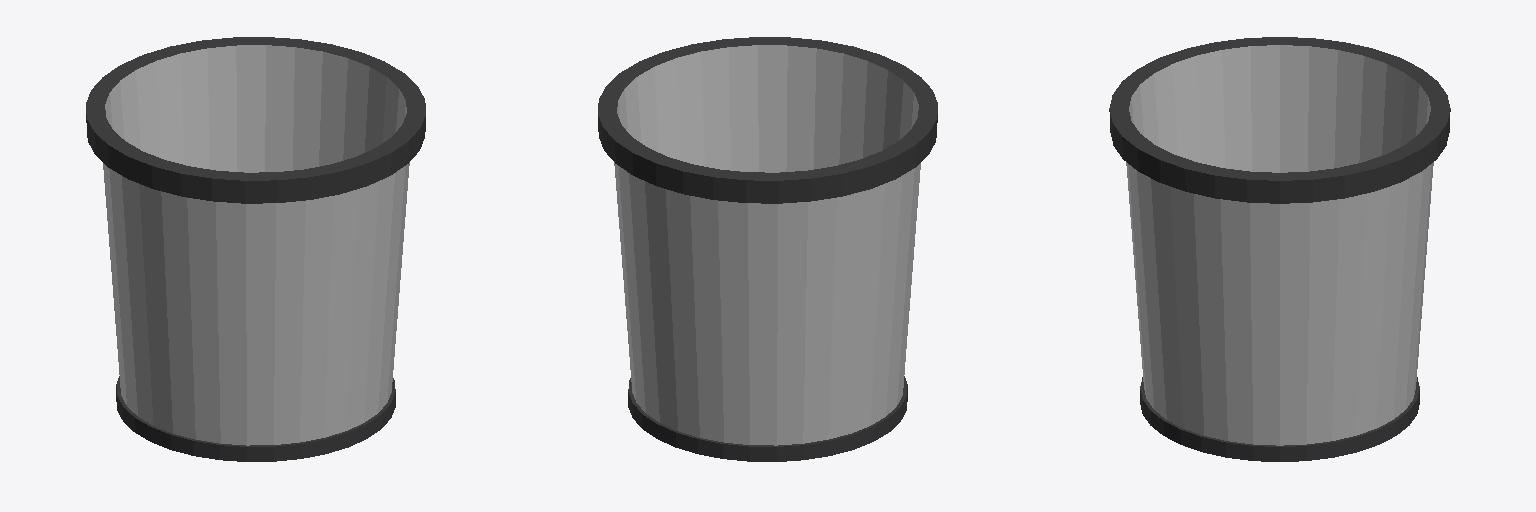
Rendered from recycleBin.obj.
The picture shows the model from 3 angles: view 1: azimuth 30°, elevation 25°; view 2: azimuth 150°, elevation 25°; view 3: azimuth 270°, elevation 25°; orthographic projection.
Parts seen in each view (by area): view 1: Bin; view 2: Bin; view 3: Bin.
Part boxes in pixels (left/top/right/bottom): Bin: left=86, top=37, right=425, bottom=461; Bin: left=598, top=37, right=937, bottom=461; Bin: left=1109, top=37, right=1450, bottom=461.
Size of the model in its own units: 2.28 by 2.17 by 2.28.